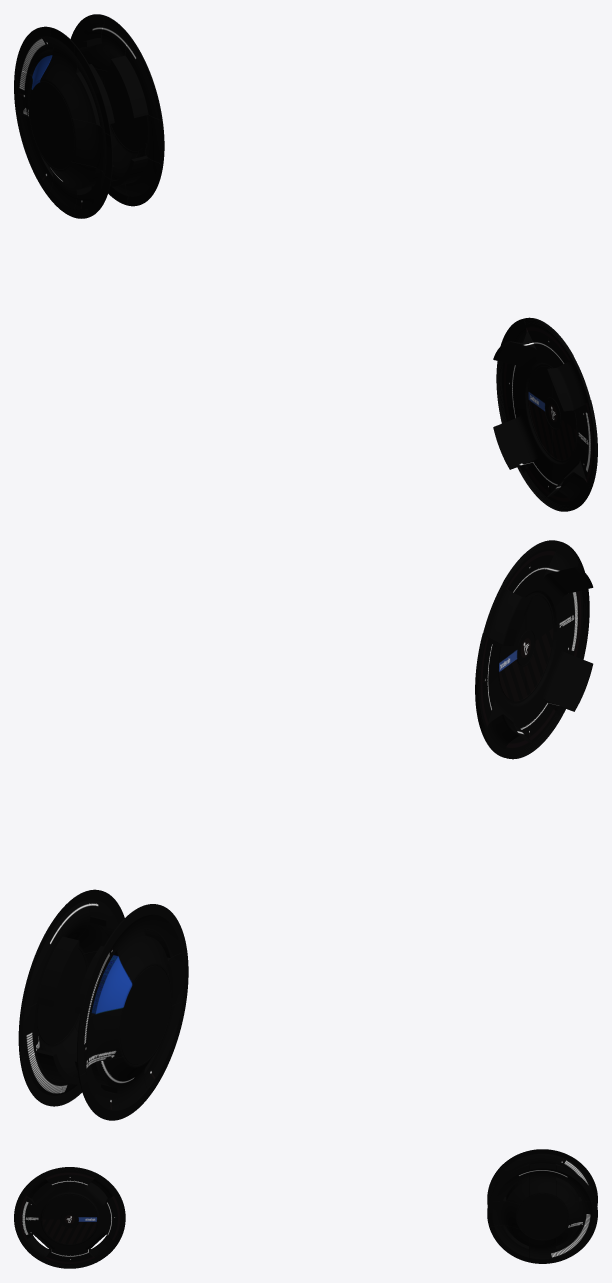
File: sh-hub-decal.glb
The picture shows the model from 3 angles, top to bottom: view 1: azimuth 30°, elevation 25°; view 2: azimuth 150°, elevation 25°; view 3: azimuth 270°, elevation 25°; orthographic projection. The views are drawn at different scales.
Visible parts, largest first — view 1: shell#83.001, shell#57.001, shell#82.001, shell#54.001; view 2: shell#83.001, shell#57.001, shell#82.001, shell#54.001; view 3: shell#82.001, shell#57.001, shell#54.001, shell#83.001.
Part boxes in pixels (x1,y1,x2,y2): shell#83.001: (14, 26, 114, 218); shell#57.001: (493, 317, 597, 511); shell#82.001: (70, 14, 164, 206); shell#54.001: (525, 363, 577, 463); shell#83.001: (75, 904, 188, 1120); shell#57.001: (475, 540, 593, 759); shell#82.001: (18, 889, 124, 1106); shell#54.001: (498, 591, 556, 705); shell#82.001: (487, 1163, 597, 1263); shell#57.001: (14, 1167, 125, 1268); shell#54.001: (41, 1193, 98, 1245); shell#83.001: (487, 1149, 597, 1205).
Bounding box in the file's own units: 0.2197 × 0.4596 × 2.4.
1 material, 1 textured.
